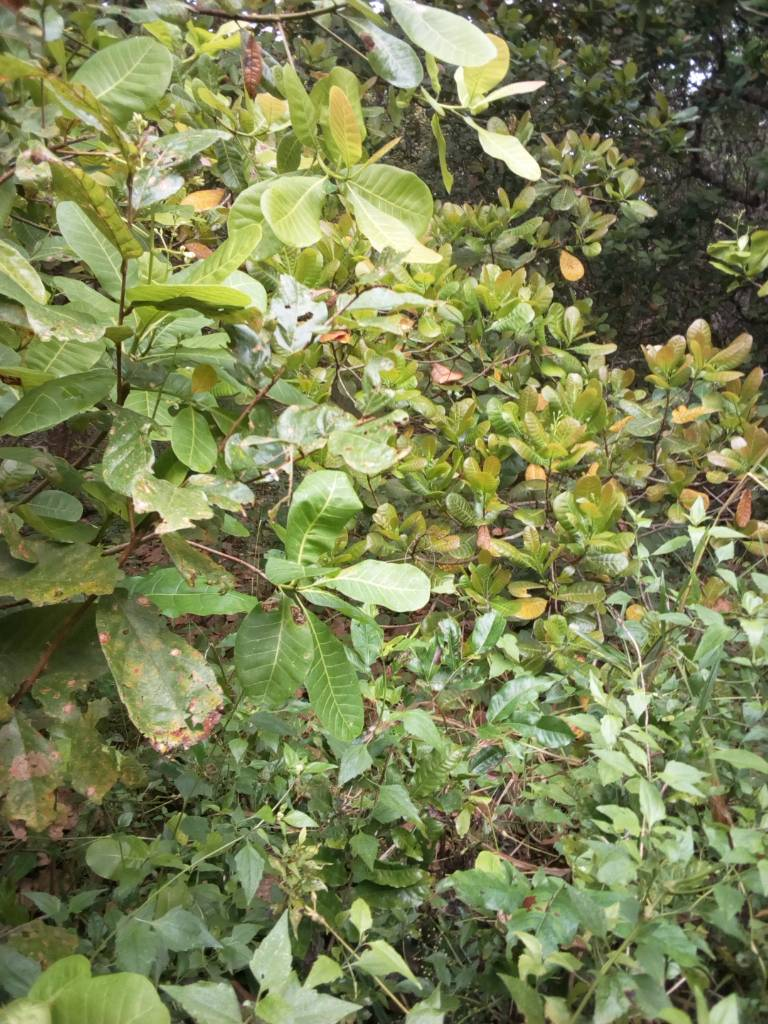Helopeltis anacardii: (280, 399, 408, 477), (104, 403, 157, 497)
